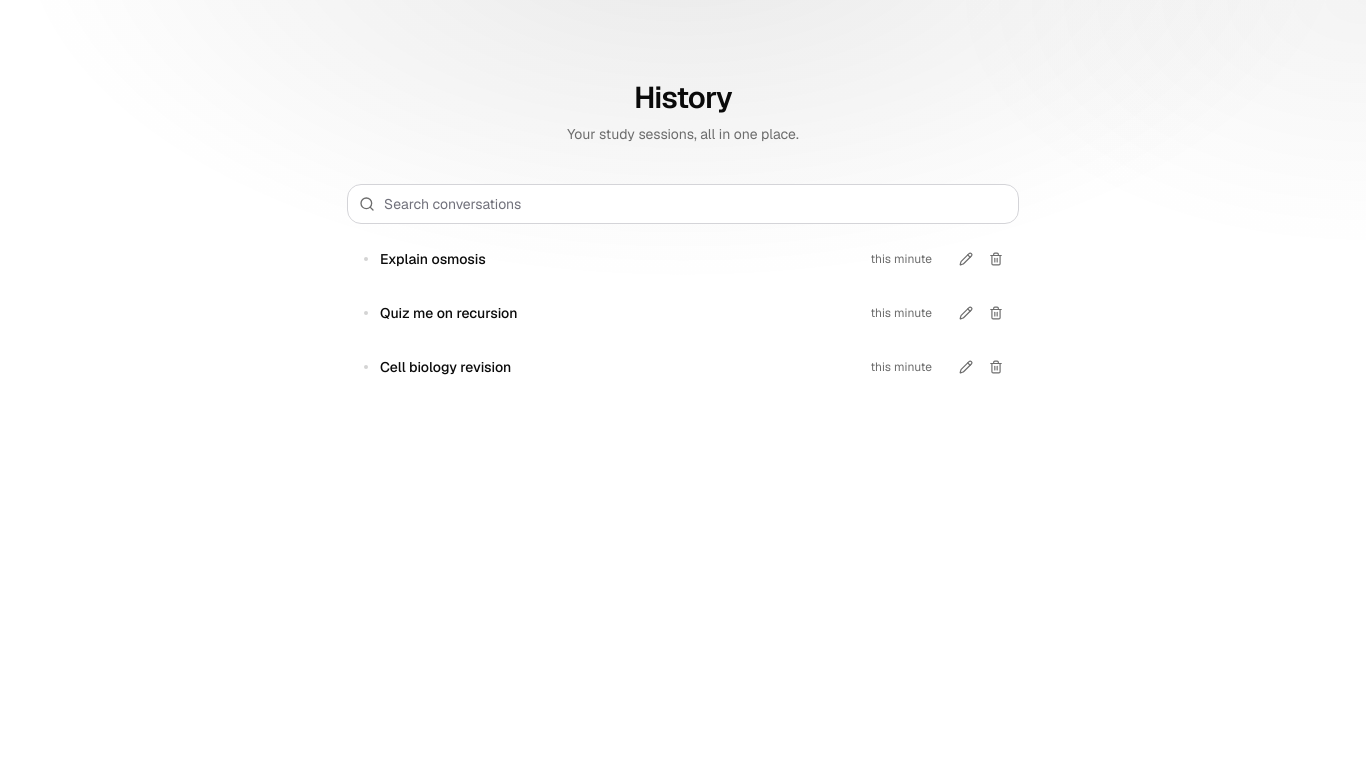
Test case: HistoryClient — delete › a failed delete keeps the row and shows an error
The width and height of the screenshot is (1366, 768).
Click the button named "Delete conversation" in the row of "Explain osmosis": (996, 259) [982,245,1010,273]
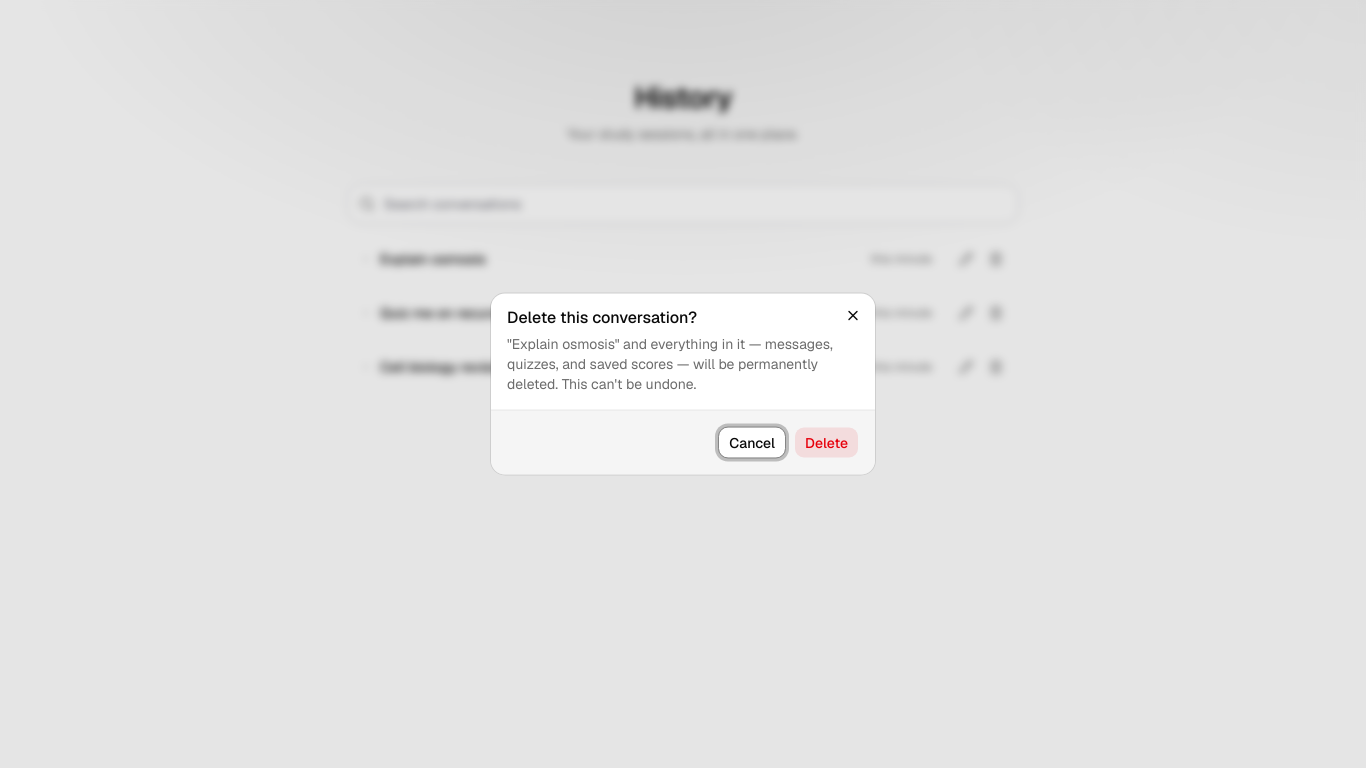
Click the button "Delete": (826, 442) [794,426,859,458]
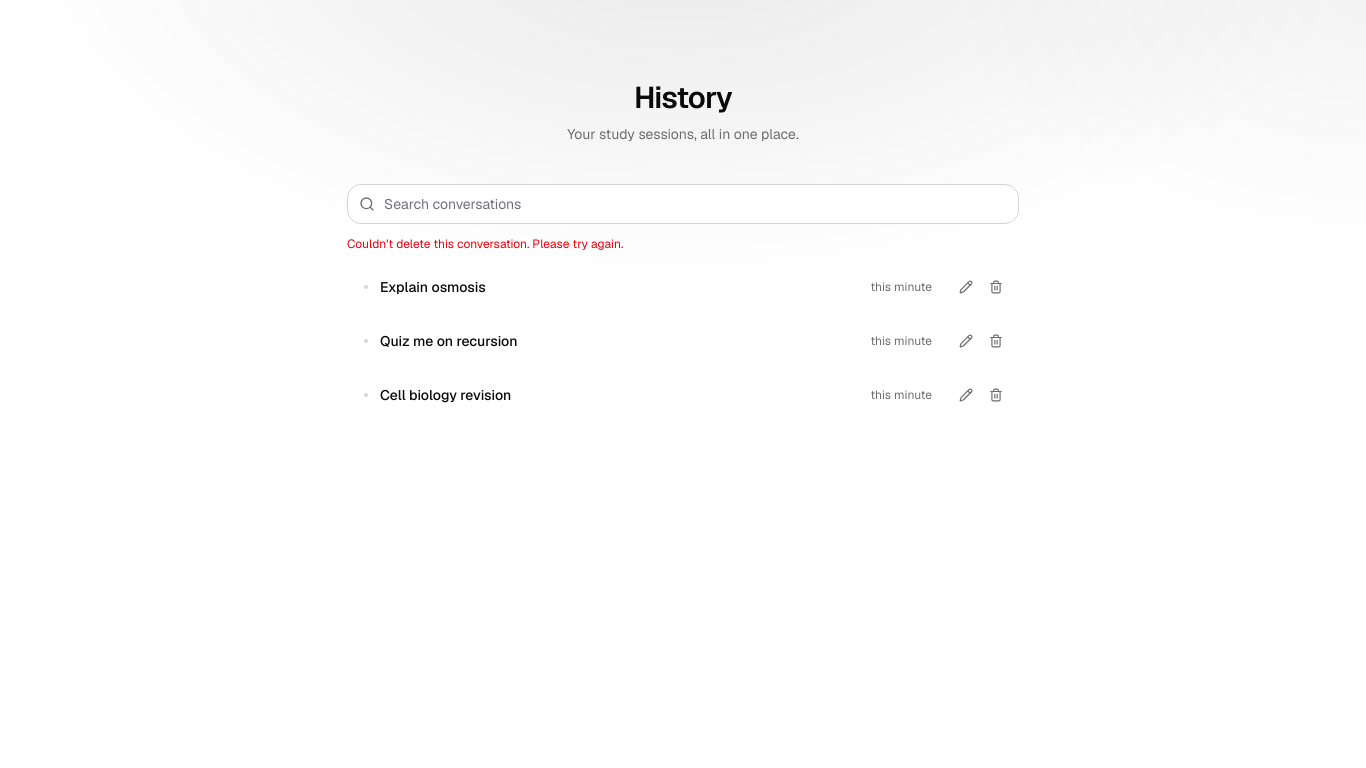
Expected: the number of list items is 3, [347,264,1019,310]; [347,318,1019,364]; [347,372,1019,418]
Expected: the message reads "Couldn't delete this conversation. Please try again.", [347,236,624,252]
